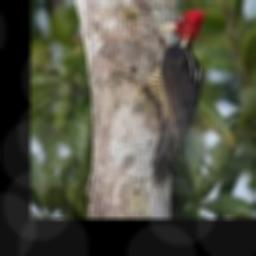Woodpecker: (115, 8, 205, 186)
